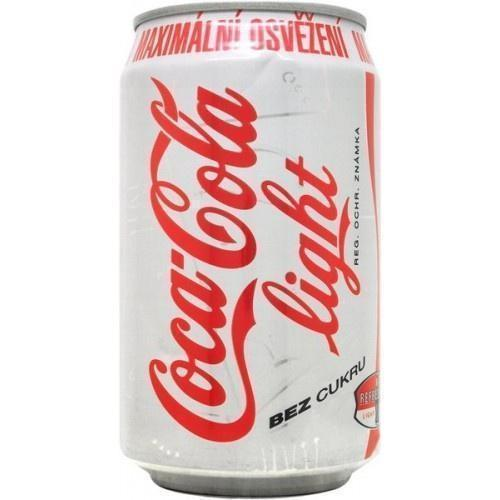tin can: (117, 1, 384, 499)
